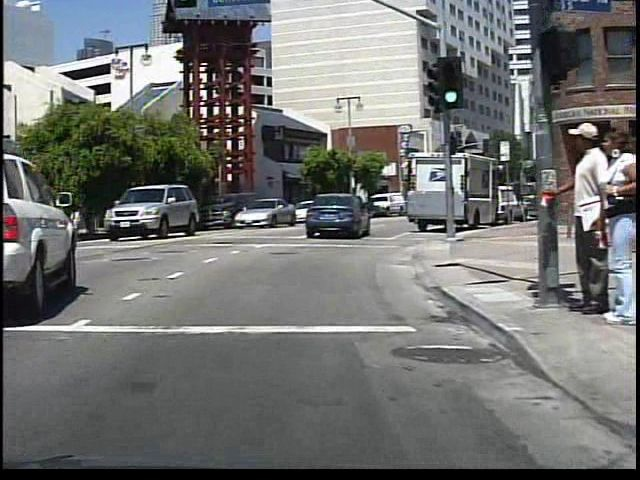person: (548, 119, 601, 316)
